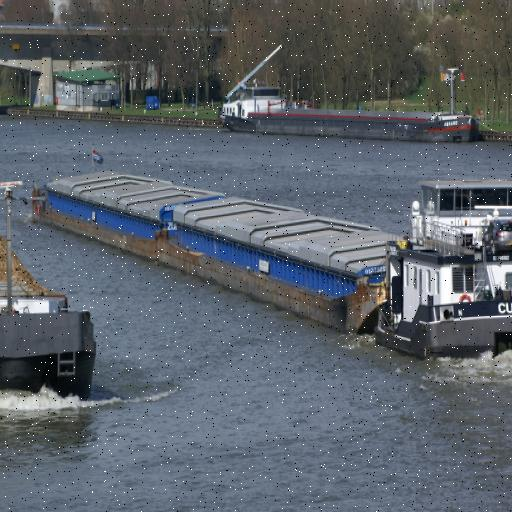tugboat: (370, 171, 512, 369)
